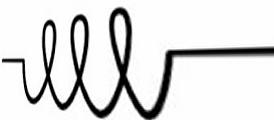inductor: (14, 6, 199, 115)
